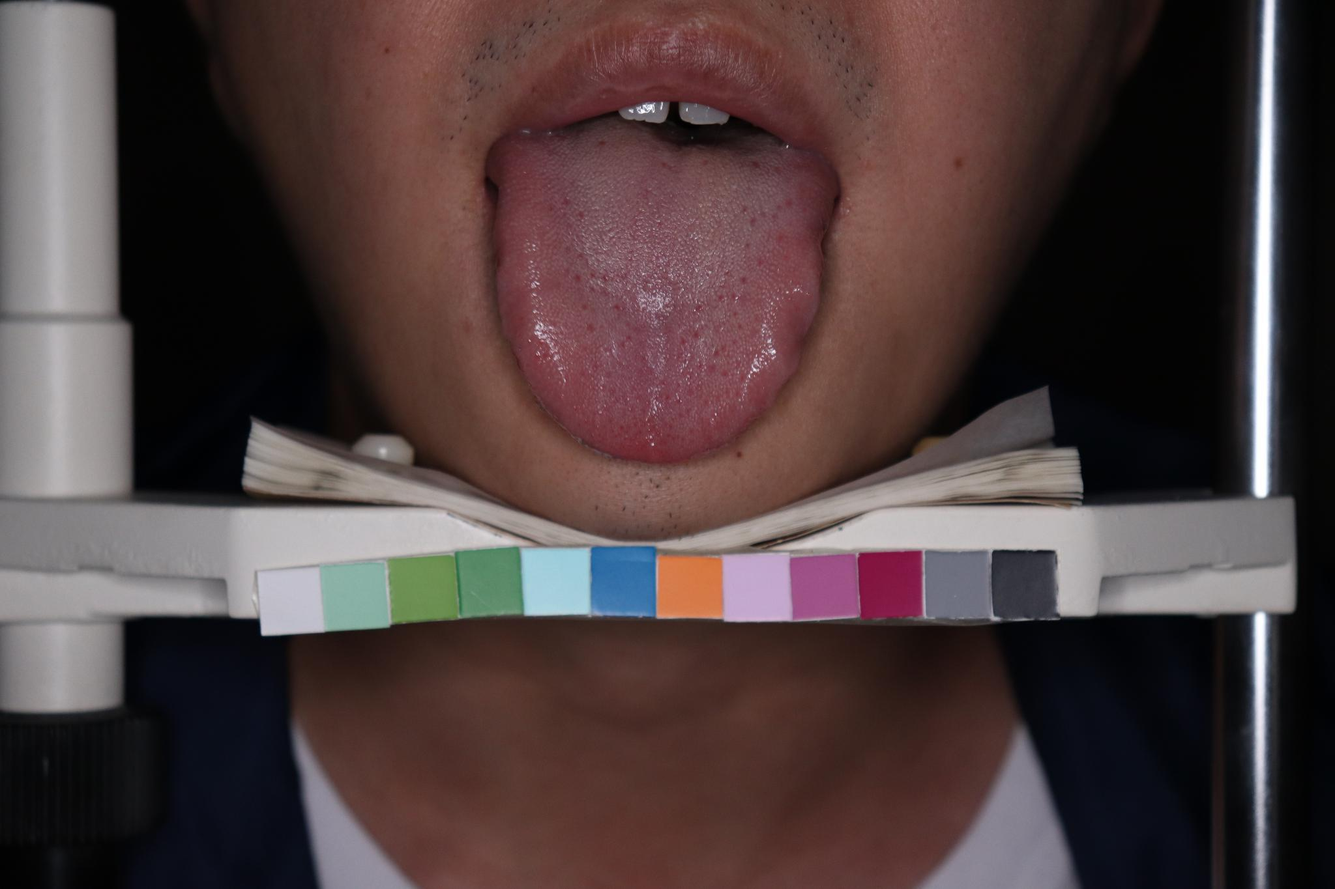baitaishe: (486, 110, 840, 460)
hongdianshe: (741, 238, 752, 251), (737, 274, 749, 285), (750, 158, 761, 170), (711, 346, 720, 360), (575, 209, 585, 220), (694, 302, 703, 314), (596, 137, 606, 147), (611, 302, 621, 311), (601, 273, 611, 282), (692, 327, 700, 337), (625, 332, 633, 340)
